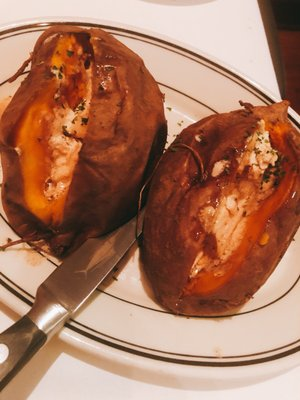sandwich: (0, 214, 140, 393)
